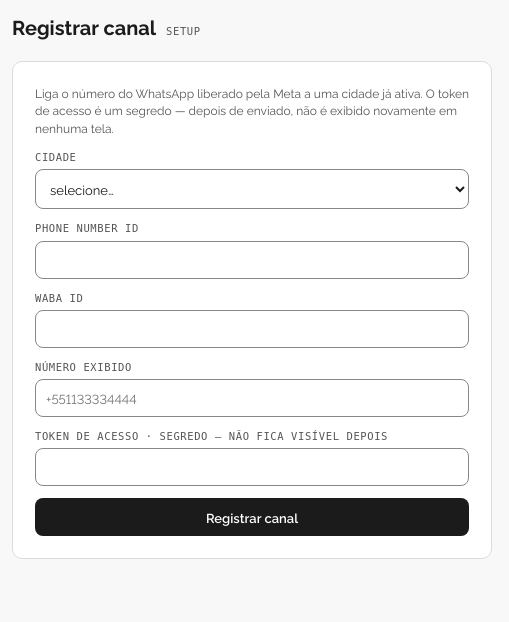
Test: RegisterChannel › shows the mapped error message (422 city_not_servable) and keeps the form
Select "Curitiba · PR" in the dropdown labelled "Cidade" at (252, 189), box 35,169 -> 469,209
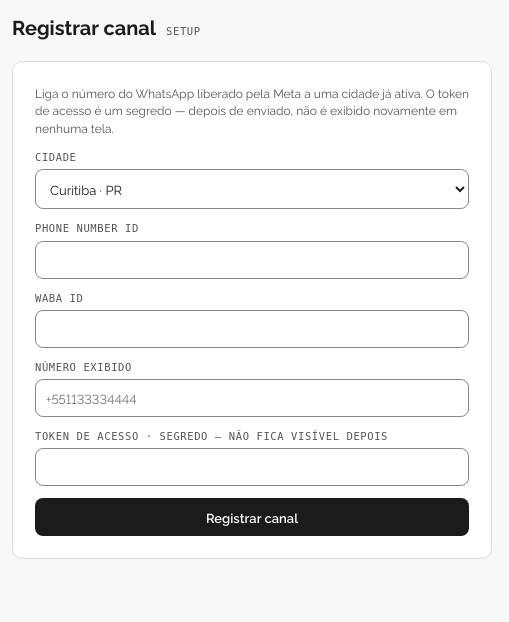
Type "111222333" into the field labelled "Phone number ID" at (252, 260), box 35,241 -> 469,279
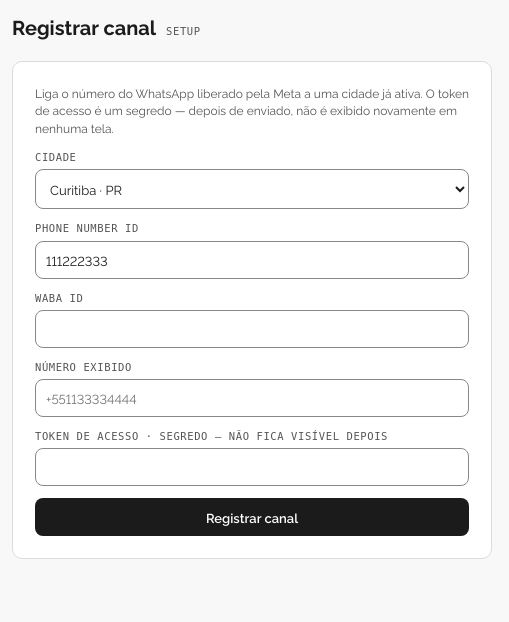
Type "waba-9" into the field labelled "WABA ID" at (252, 329), box 35,310 -> 469,348
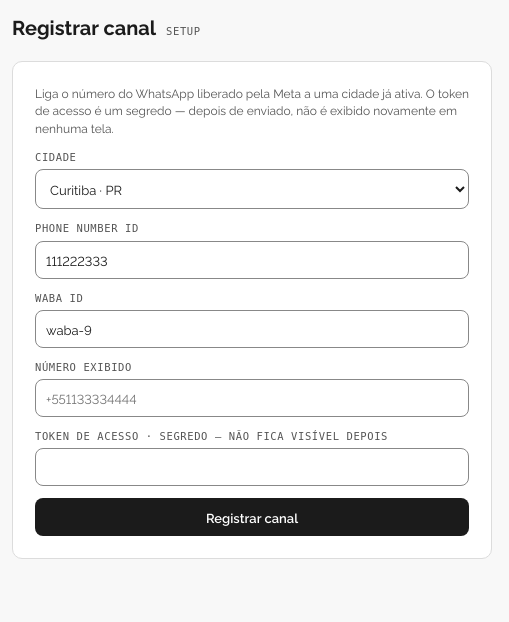
Type "+554133334444" into the field labelled "Número exibido" at (252, 398), box 35,379 -> 469,417
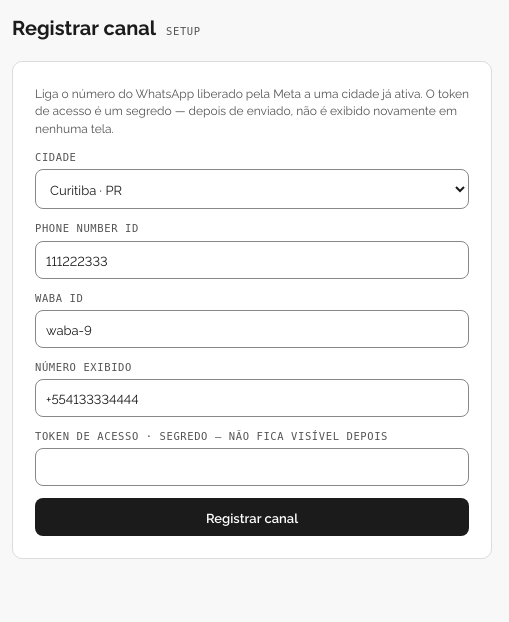
Type "EAAG-secret-token-123" into the password field labelled "Token de acesso · segredo — não fica visível depois" at (252, 467), box 35,448 -> 469,486
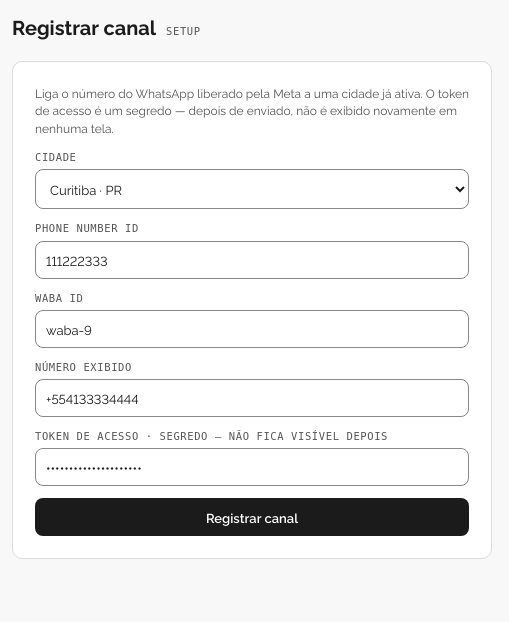
Click the button "Registrar canal" at (252, 517), box 35,498 -> 469,536
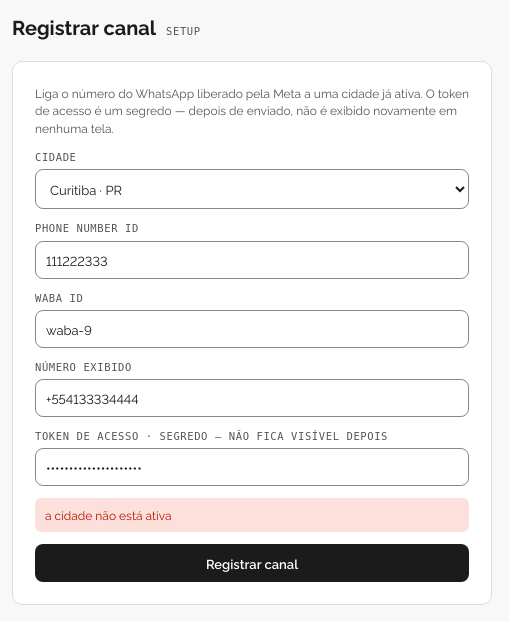
Expected: the message reads "a cidade não está ativa", 45,506 -> 171,523
